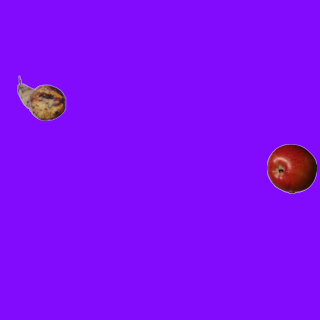Apple Braeburn: (266, 143, 316, 193)
Pear Abate: (16, 73, 66, 123)
